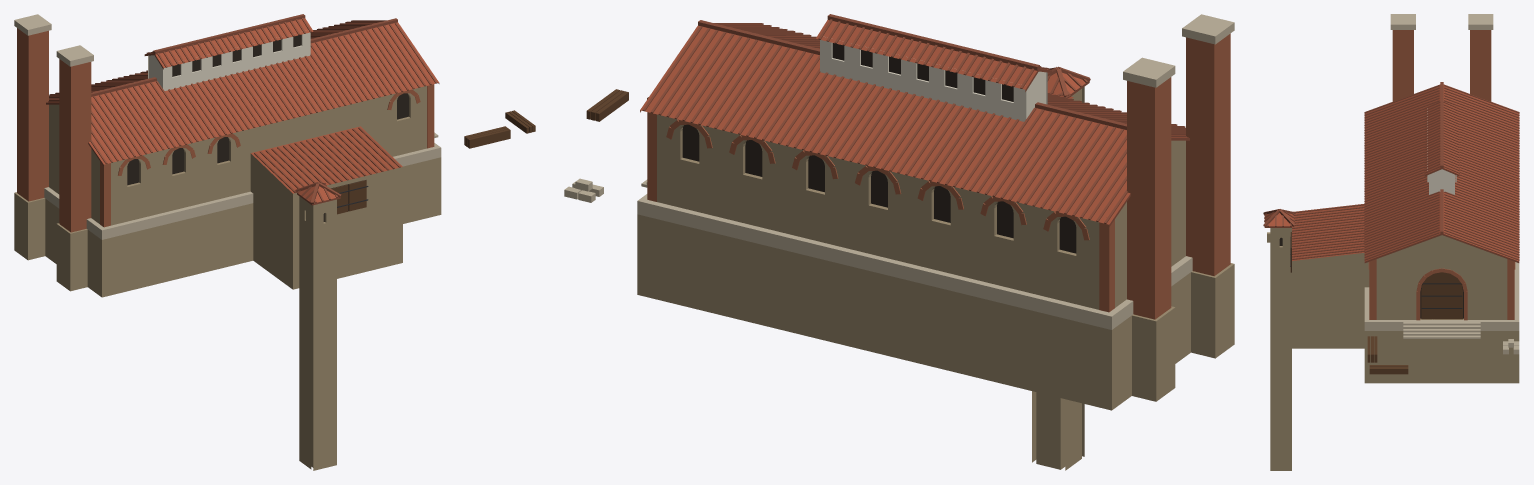
File: ant_workshop.glb
The picture shows the model from 3 angles, left to right: view 1: azimuth 30°, elevation 25°; view 2: azimuth 150°, elevation 25°; view 3: azimuth 270°, elevation 25°; orthographic projection. The views are drawn at different scales.
Parts seen in each view (by area): view 1: ant_workshop; view 2: ant_workshop; view 3: ant_workshop.
Boxes of the visible parts, <box> form: ant_workshop: <box>14,14,535,470</box>; ant_workshop: <box>564,14,1234,470</box>; ant_workshop: <box>1263,14,1519,470</box>.
Bounding box in the file's own units: 49.5 × 42 × 26.52.
